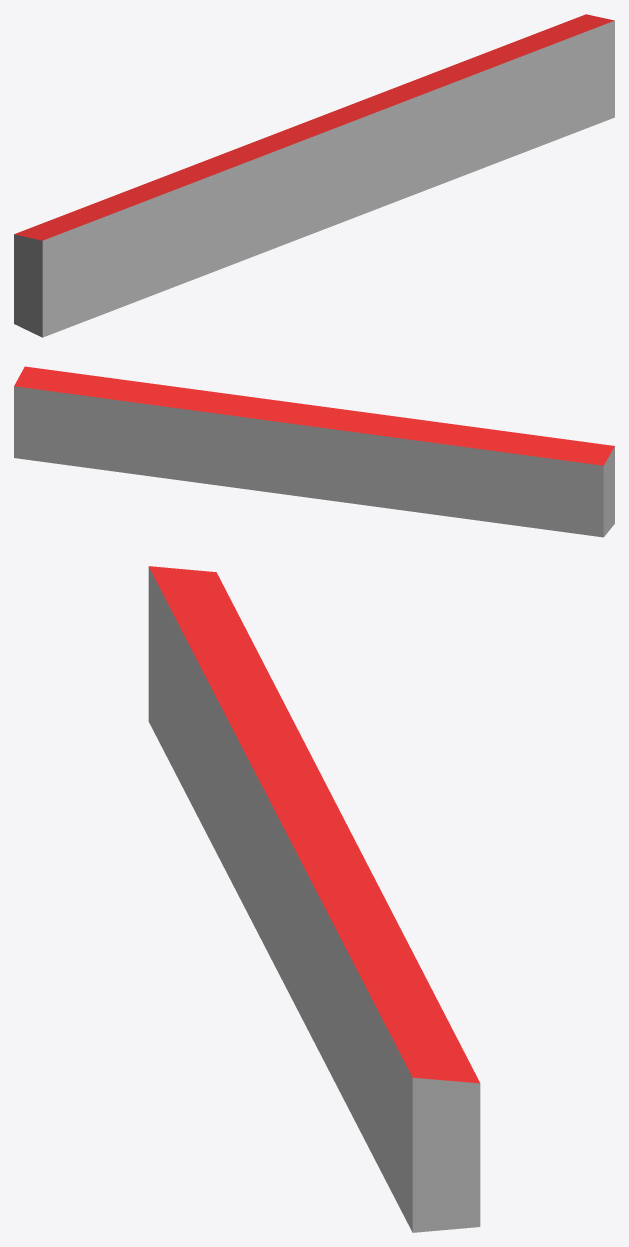
Rendered from DEBE3D04YY50002cZf.dae.
The picture shows the model from 3 angles, top to bottom: view 1: azimuth 30°, elevation 25°; view 2: azimuth 150°, elevation 25°; view 3: azimuth 270°, elevation 25°; orthographic projection. The views are drawn at different scales.
Size of the model in its own units: 35.71 by 9.69 by 5.
